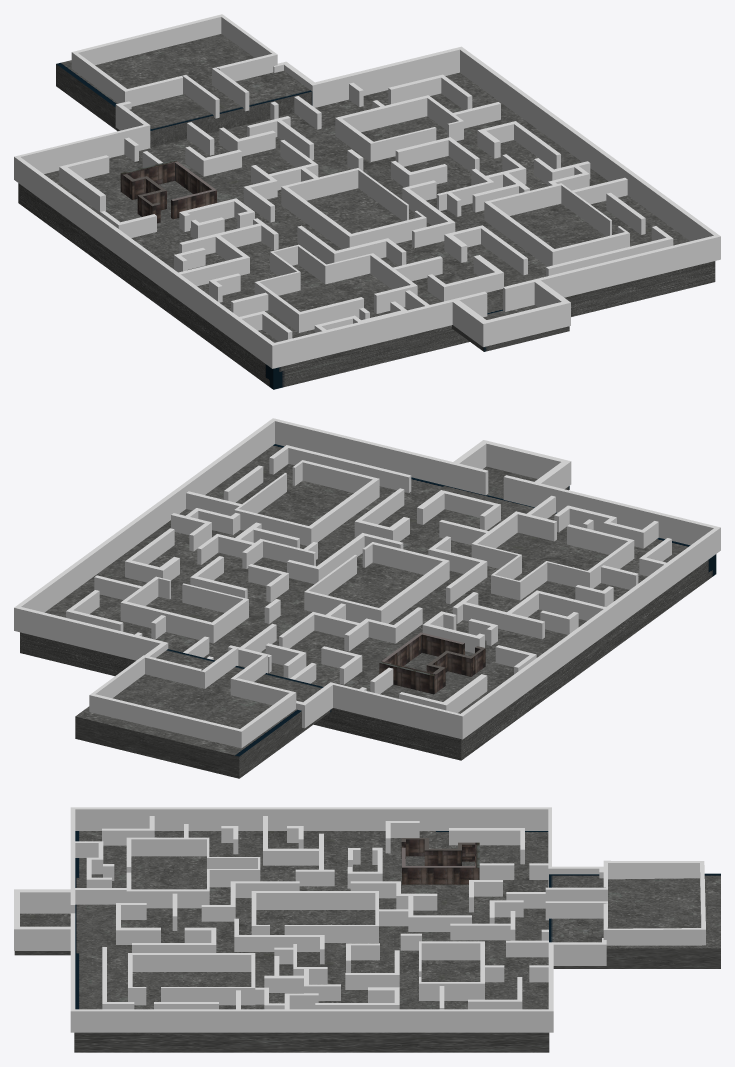
The model's file is labirinto.glb.
3 renders of one model, top to bottom at view 1: azimuth 30°, elevation 25°; view 2: azimuth 150°, elevation 25°; view 3: azimuth 270°, elevation 25°, orthographic. The views are drawn at different scales.
Visible parts, largest first — view 1: chao, labirinto, colunas, tutorial, area22, area4, area3, area2, area1; view 2: chao, labirinto, colunas, tutorial, area22, area3, area4, area2, area1; view 3: chao, labirinto, colunas, tutorial, area22, area4, area3, area1, area2.
Boxes of the visible parts, box(x1,y1,x2,y2) form: chao: box(18, 34, 715, 389); labirinto: box(59, 74, 673, 341); colunas: box(14, 46, 720, 368); tutorial: box(71, 14, 277, 118); area22: box(254, 244, 417, 332); area4: box(484, 183, 629, 266); area3: box(281, 168, 426, 249); area2: box(335, 95, 463, 161); area1: box(120, 160, 216, 223); chao: box(20, 444, 716, 778); labirinto: box(66, 445, 671, 712); colunas: box(14, 418, 720, 739); tutorial: box(89, 647, 296, 748); area22: box(471, 511, 634, 600); area3: box(304, 542, 449, 623); area4: box(234, 460, 379, 545); area2: box(120, 576, 248, 643); area1: box(379, 632, 485, 694); chao: box(14, 831, 720, 1052); labirinto: box(75, 816, 548, 1009); colunas: box(14, 807, 606, 1032); tutorial: box(545, 860, 705, 945); area22: box(126, 837, 260, 908); area4: box(128, 953, 255, 1005); area3: box(251, 891, 378, 942); area1: box(401, 838, 479, 884); area2: box(419, 941, 484, 1000).
Size of the model in its own units: 101 by 12.31 by 149.
2 materials, 2 textured.
